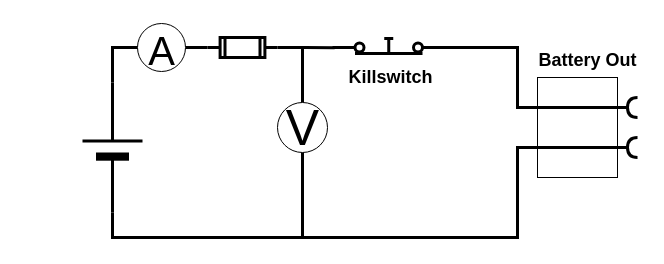
The diagram is 664 pixels wide and 264 high, and some of its shapes have lost their labels. Here are the shapes that lost their labels. From the top down, the box of each, then its label:
(80, 80, 144, 214): + 12 V -
(536, 76, 618, 178): xt60
